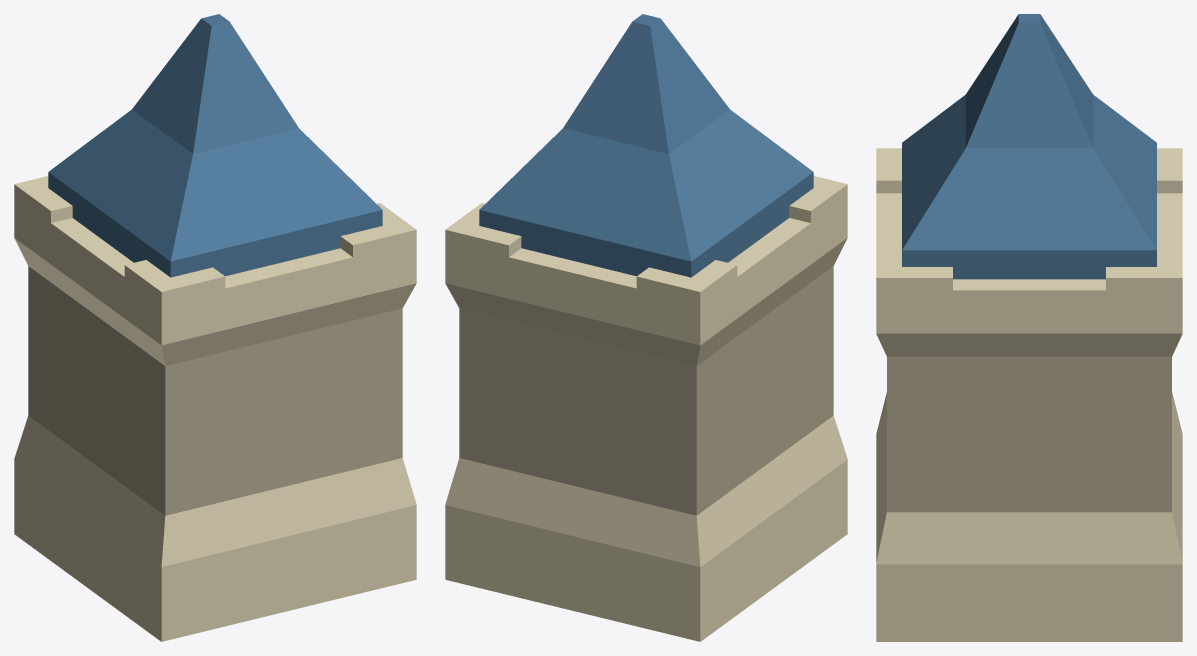
Rendered from towerSquareRoof.fbx.
The picture shows the model from 3 angles, left to right: view 1: azimuth 30°, elevation 25°; view 2: azimuth 150°, elevation 25°; view 3: azimuth 270°, elevation 25°; orthographic projection. The views are drawn at different scales.
Visible parts, largest first — view 1: towerSquareRoof; view 2: towerSquareRoof; view 3: towerSquareRoof.
Part boxes in pixels (<box>): towerSquareRoof: <box>14,14,416,641</box>; towerSquareRoof: <box>445,14,847,641</box>; towerSquareRoof: <box>876,14,1182,641</box>.
Size of the model in its own units: 10 by 20.1 by 10.
